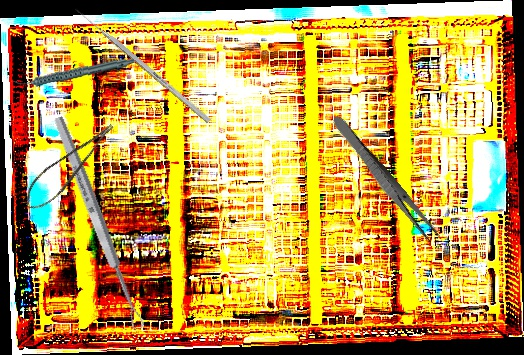Dressing Forceps: (326, 113, 443, 246)
Handpiece: (13, 53, 135, 91)
Micro Scissor: (15, 120, 128, 216)
Pusher: (73, 6, 212, 124)
Surgical Spoon: (51, 114, 146, 332)
